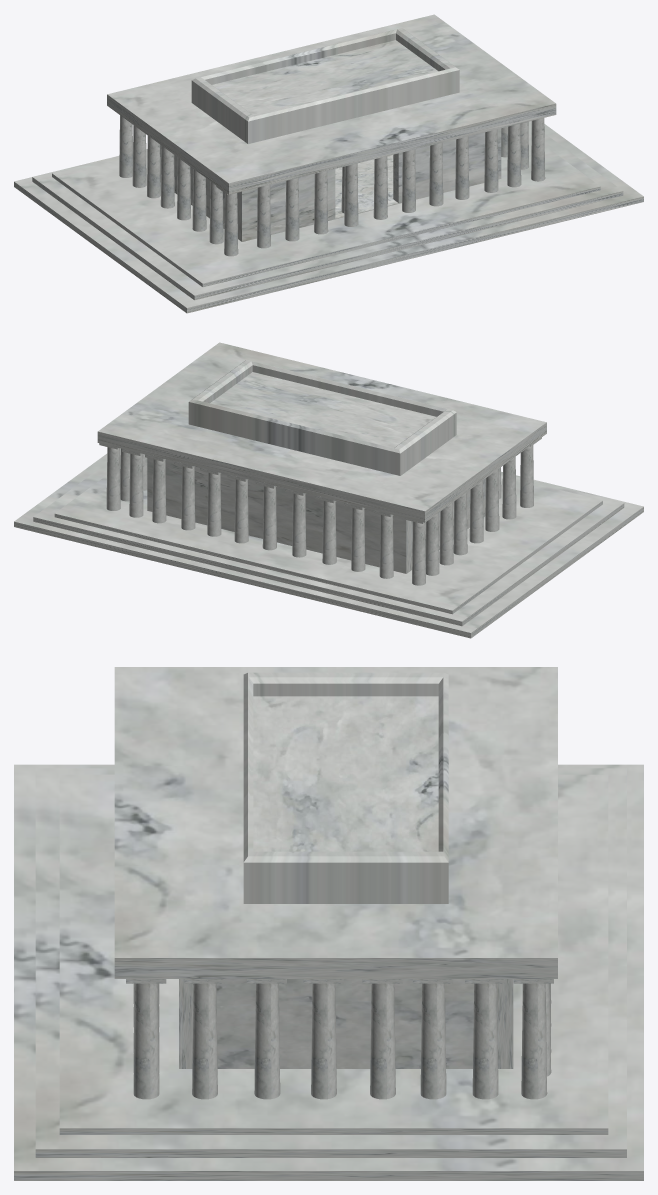
Rendered from LincolnMemorial.fbx.
3 renders of one model, top to bottom at view 1: azimuth 30°, elevation 25°; view 2: azimuth 150°, elevation 25°; view 3: azimuth 270°, elevation 25°, orthographic. The views are drawn at different scales.
Visible parts, largest first — view 1: polySurface40, pCube10, pCube12, pCube11; view 2: polySurface40, pCube10, pCube12, pCube11; view 3: polySurface40, pCube10, pCube12, pCube11.
Boxes of the visible parts, x1,y1,x2,y2 form: polySurface40: (107, 14, 556, 256); pCube10: (52, 134, 600, 286); pCube12: (14, 121, 643, 313); pCube11: (32, 122, 623, 300); polySurface40: (97, 342, 546, 585); pCube10: (54, 466, 602, 614); pCube12: (14, 448, 643, 638); pCube11: (33, 453, 624, 626); polySurface40: (114, 667, 557, 1099); pCube10: (59, 774, 608, 1134); pCube12: (14, 764, 643, 1180); pCube11: (35, 768, 626, 1157).
Size of the model in its own units: 27.99 by 6.89 by 18.34.
1 material, 1 textured.
